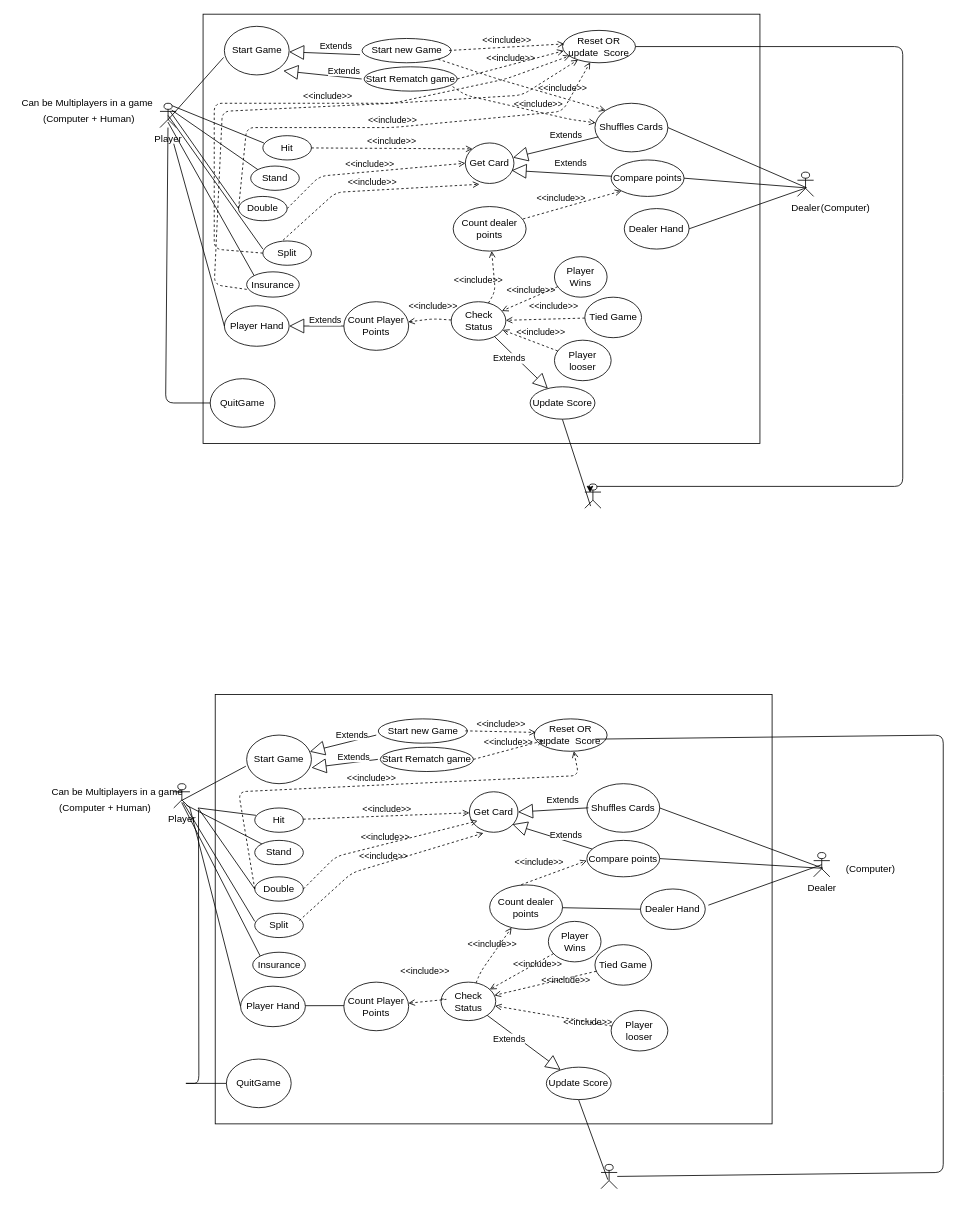
Image size: 958x1220. Some labels were removed from this diagram. Here are the shapes that lost their labels. From the top down, the box of each, then its label:
(584, 483, 601, 508): Score system
(600, 1164, 617, 1189): Score
